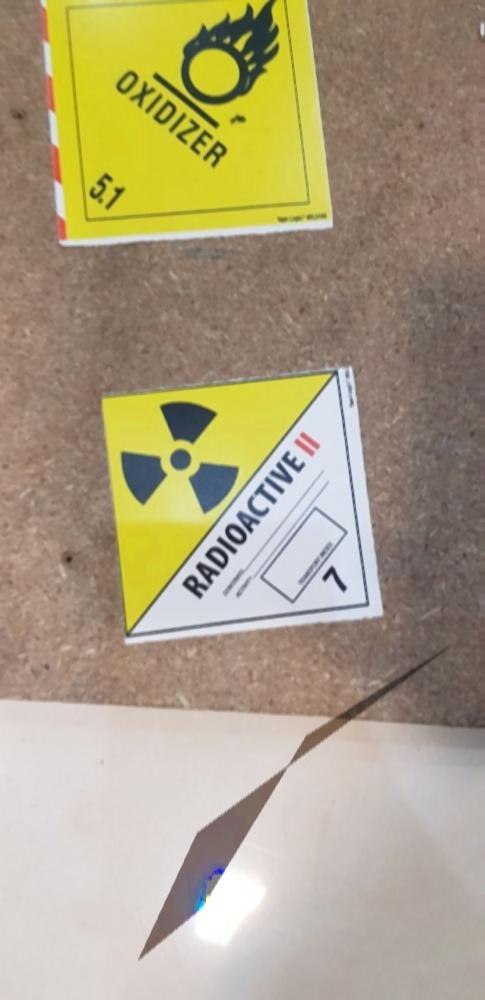oxidizer: (38, 1, 337, 251)
radioactive: (94, 365, 378, 643)
